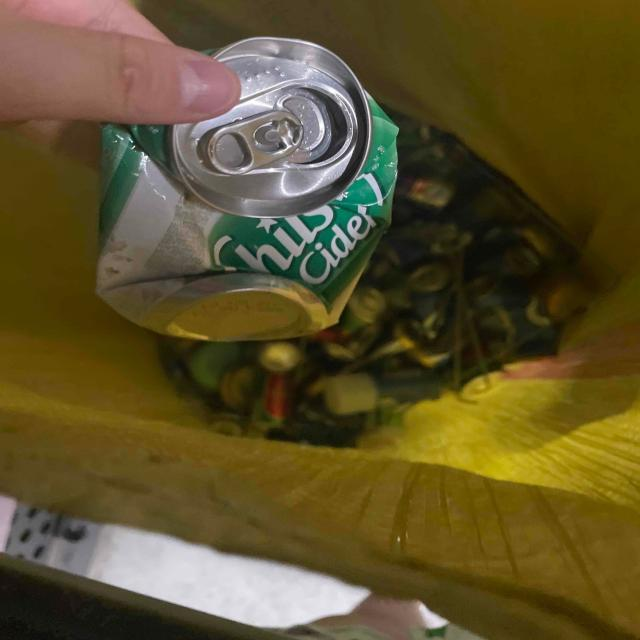kimloai: (98, 38, 398, 341)
